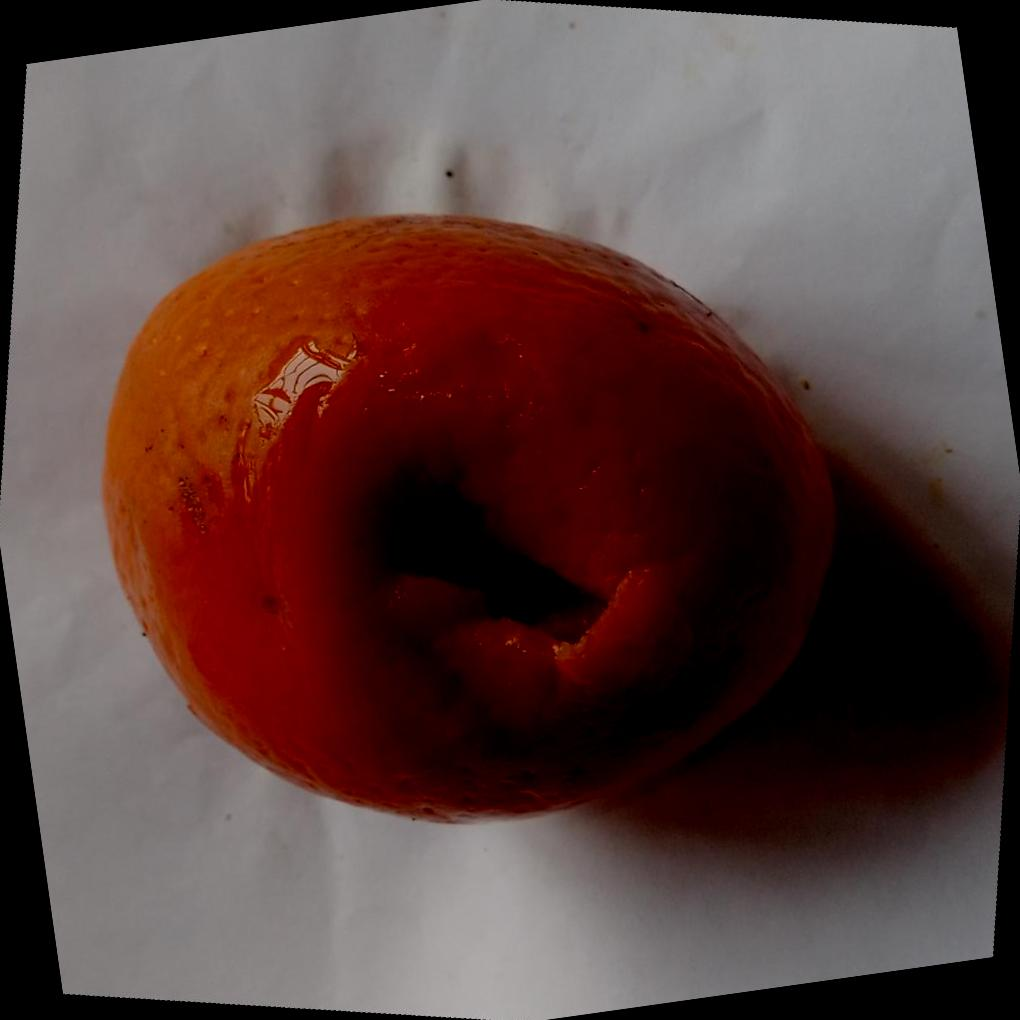FreshOrange: (102, 211, 843, 824)
